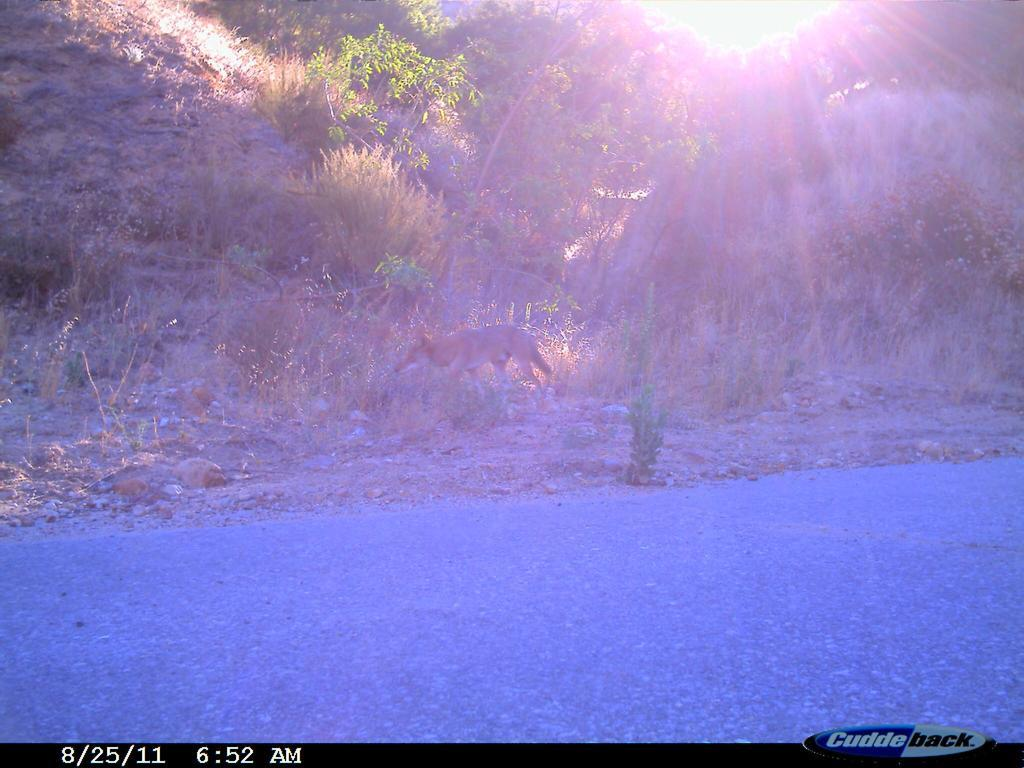coyote: (385, 312, 559, 433)
